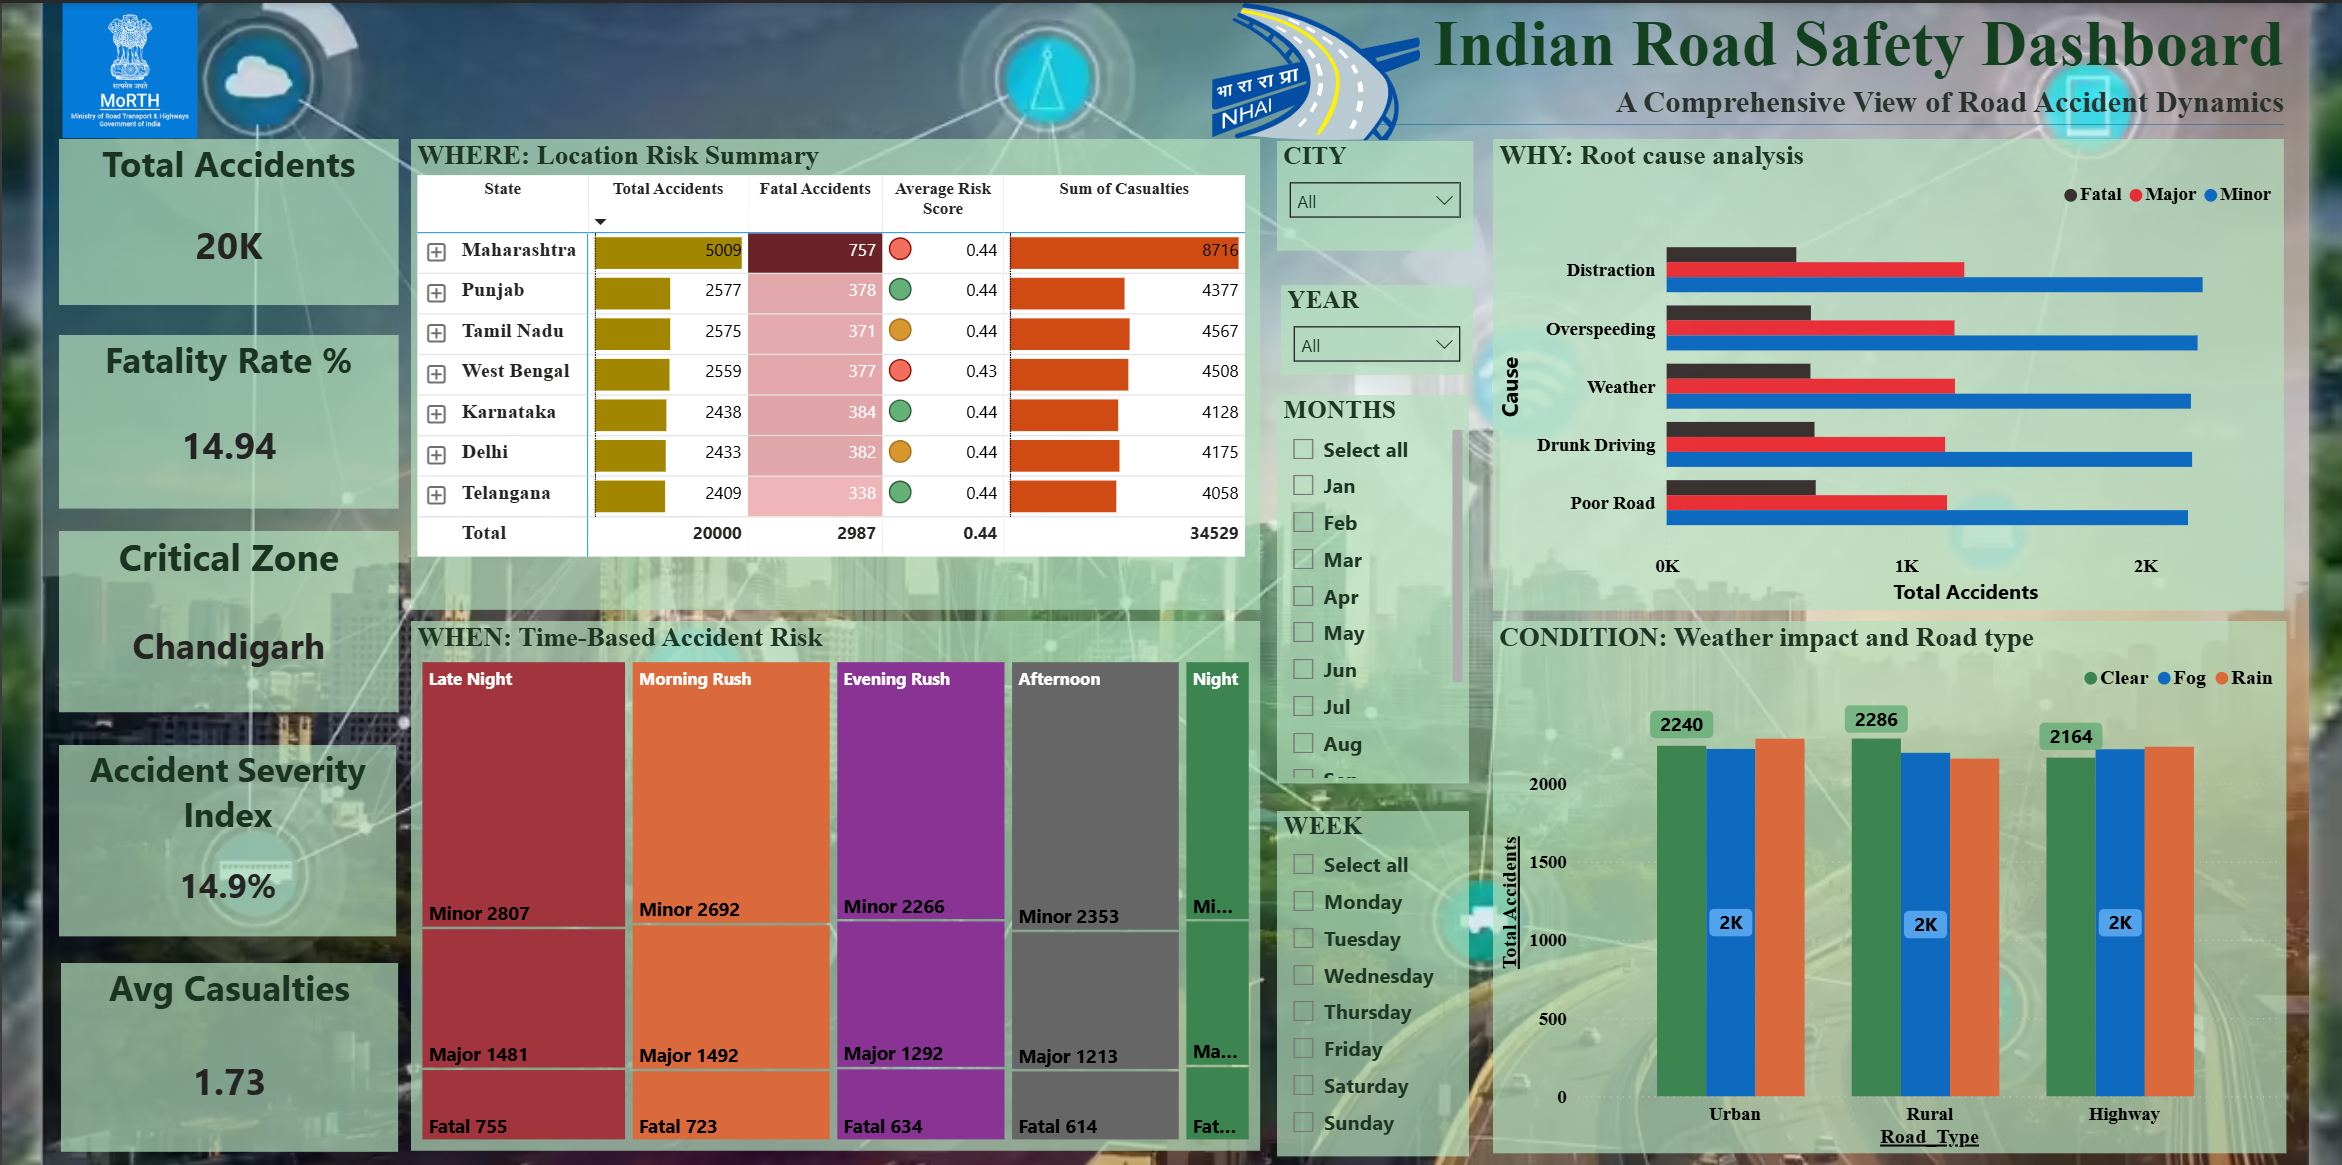

This screenshot's page, from the dashboard's own definition file:
{"tool":"powerbi","page":{"name":"Indian Roads Dashboard","canvas":[1790,920],"ordinal":0},"visuals":[{"type":"shape","title":"Indian Road Safety Dashboard","box":[1018.3,3.1,752.1,92.9],"z":0},{"type":"card","title":"Total Accidents","fields":{"Values":["indian_roads_dataset.Total Accidents"]},"box":[14.1,106.9,268.1,131],"z":1000},{"type":"card","title":"Accident Severity Index","fields":{"Values":["indian_roads_dataset.Accident Severity Index"]},"box":[14.1,584.7,266.1,151.2],"z":2000},{"type":"pivotTable","title":"WHERE: Location Risk Summary","fields":{"Rows":["indian_roads_dataset.State","indian_roads_dataset.City","indian_roads_dataset.Road_Type"],"Values":["indian_roads_dataset.Total Accidents","indian_roads_dataset.Fatal Accidents","indian_roads_dataset.Average Risk Score","Sum(indian_roads_dataset.Casualties)"]},"box":[292.1,107.9,669.8,371.4],"z":3000},{"type":"clusteredBarChart","title":"WHY: Root cause analysis","fields":{"Category":["indian_roads_dataset.Cause"],"Series":["indian_roads_dataset.Accident_Severity"],"Y":["indian_roads_dataset.Total Accidents"]},"box":[1146,108,624,372],"z":4000},{"type":"treemap","title":"WHEN: Time-Based Accident Risk","fields":{"Details":["indian_roads_dataset.Accident_Severity"],"Group":["indian_roads_dataset.Hour (groups)"],"Values":["indian_roads_dataset.Total Accidents"]},"box":[292,488,670,418],"z":5000},{"type":"lineClusteredColumnComboChart","title":"CONDITION: Weather impact and Road type","fields":{"Category":["indian_roads_dataset.Road_Type"],"Series":["indian_roads_dataset.Weather"],"Y":["indian_roads_dataset.Total Accidents"]},"box":[1146,488,626,420],"z":6000},{"type":"card","title":"Critical Zone","fields":{"Values":["indian_roads_dataset.Most Affected City"]},"box":[14.1,417.3,268.1,143.1],"z":7000},{"type":"card","title":"Avg Casualties","fields":{"Values":["Date Table.Avg Casualties per Accident"]},"box":[16.1,758.1,266.1,149.2],"z":8000},{"type":"card","title":"Fatality Rate % ","fields":{"Values":["Date Table.Fatality Rate %"]},"box":[14.1,262.1,268.1,137.1],"z":9000},{"type":"slicer","title":"CITY","fields":{"Values":["indian_roads_dataset.City"]},"box":[975,108.3,154.8,86.7],"z":10000},{"type":"slicer","title":"YEAR","fields":{"Values":["Date Table.Year"]},"box":[978.1,222.9,151.7,71.2],"z":12000},{"type":"slicer","title":"WEEK","fields":{"Values":["Date Table.Day of Week"]},"box":[975,637.6,151.7,272.4],"z":13000},{"type":"slicer","title":"MONTHS","fields":{"Values":["Date Table.Month Name"]},"box":[975,309.5,151.7,306.4],"z":13001},{"type":"image","box":[0,0,140.7,106.5],"z":13002},{"type":"image","box":[866.1,0,279.7,108.3],"z":13003}]}

Visuals, with their boxes in screenshot pixels (x1, y1, x2, y2):
"Indian Road Safety Dashboard" shape: Rect(1314, 16, 2253, 132)
"Total Accidents" card: Rect(60, 146, 395, 309)
"Accident Severity Index" card: Rect(60, 742, 393, 931)
"WHERE: Location Risk Summary" pivotTable: Rect(407, 147, 1244, 611)
"WHY: Root cause analysis" clusteredBarChart: Rect(1474, 147, 2253, 612)
"WHEN: Time-Based Accident Risk" treemap: Rect(407, 622, 1244, 1144)
"CONDITION: Weather impact and Road type" lineClusteredColumnComboChart: Rect(1474, 622, 2255, 1146)
"Critical Zone" card: Rect(60, 533, 395, 712)
"Avg Casualties" card: Rect(63, 959, 395, 1145)
"Fatality Rate % " card: Rect(60, 339, 395, 511)
"CITY" slicer: Rect(1260, 147, 1453, 256)
"YEAR" slicer: Rect(1264, 291, 1453, 379)
"WEEK" slicer: Rect(1260, 808, 1450, 1149)
"MONTHS" slicer: Rect(1260, 399, 1450, 781)
image: Rect(43, 12, 218, 145)
image: Rect(1124, 12, 1473, 147)
